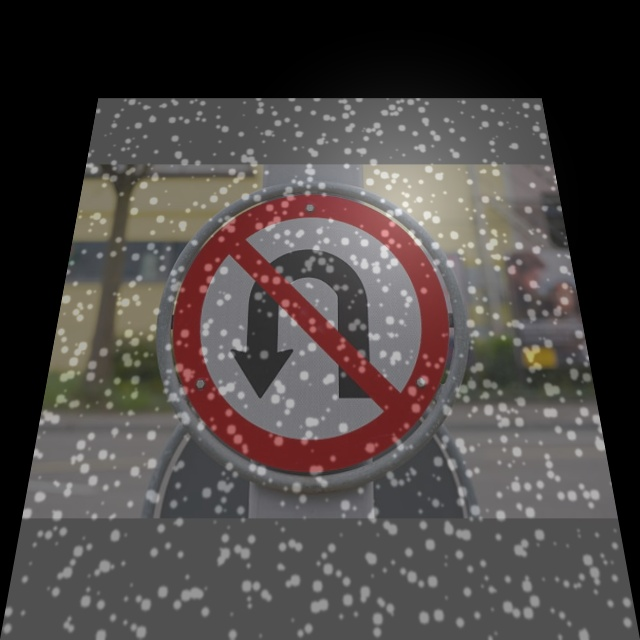U_Turn_Prohibited: (143, 185, 484, 492)
